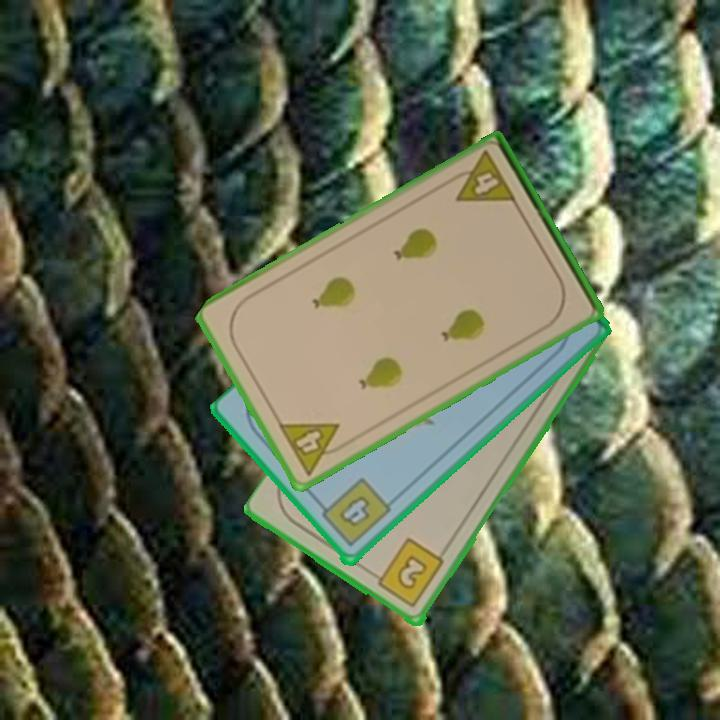2b: (367, 535, 447, 611)
4b: (313, 475, 394, 551)
4p: (274, 419, 353, 479), (444, 147, 519, 206)
